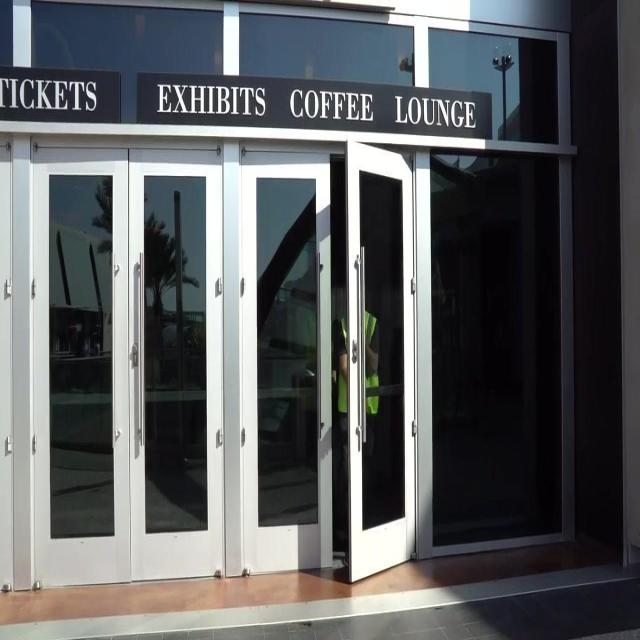Vest: (338, 311, 380, 415)
